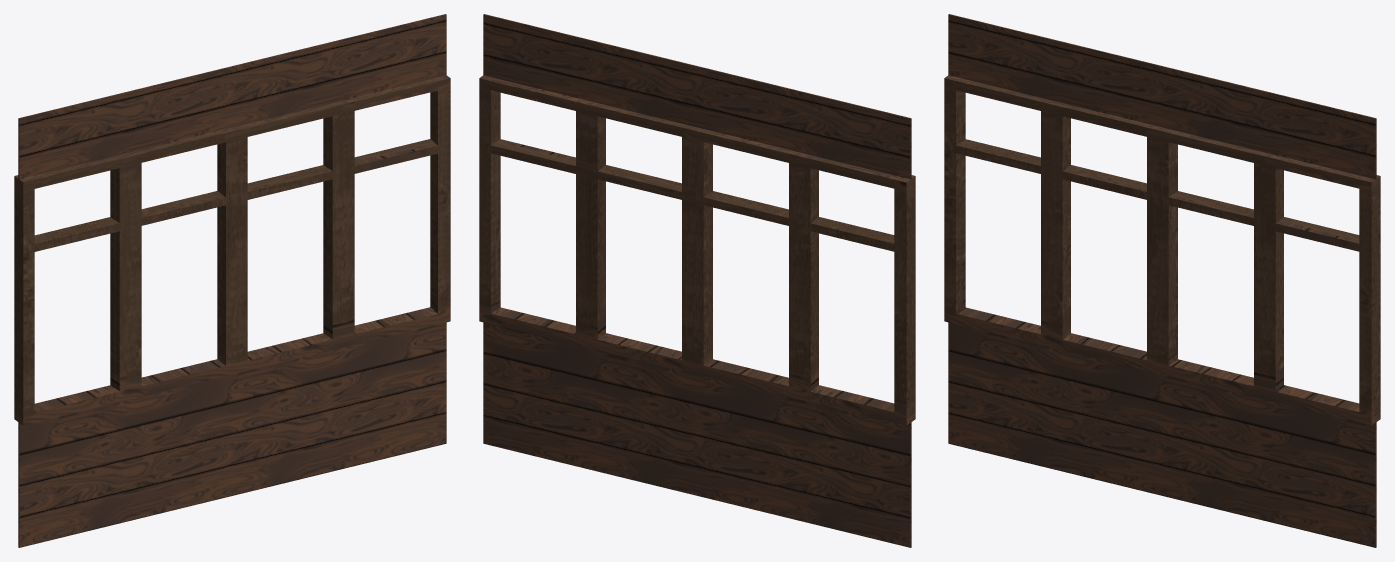
Rendered from Test_wallWindowGM.fbx.
The picture shows the model from 3 angles, left to right: view 1: azimuth 30°, elevation 25°; view 2: azimuth 150°, elevation 25°; view 3: azimuth 330°, elevation 25°; orthographic projection.
Parts seen in each view (by area): view 1: Window_wall2; view 2: Window_wall2; view 3: Window_wall2.
Boxes of the visible parts, x1,y1,x2,y2 form: Window_wall2: (14,14,450,547); Window_wall2: (479,14,915,547); Window_wall2: (944,14,1380,547).
Size of the model in its own units: 6.25 by 6 by 0.2246.
